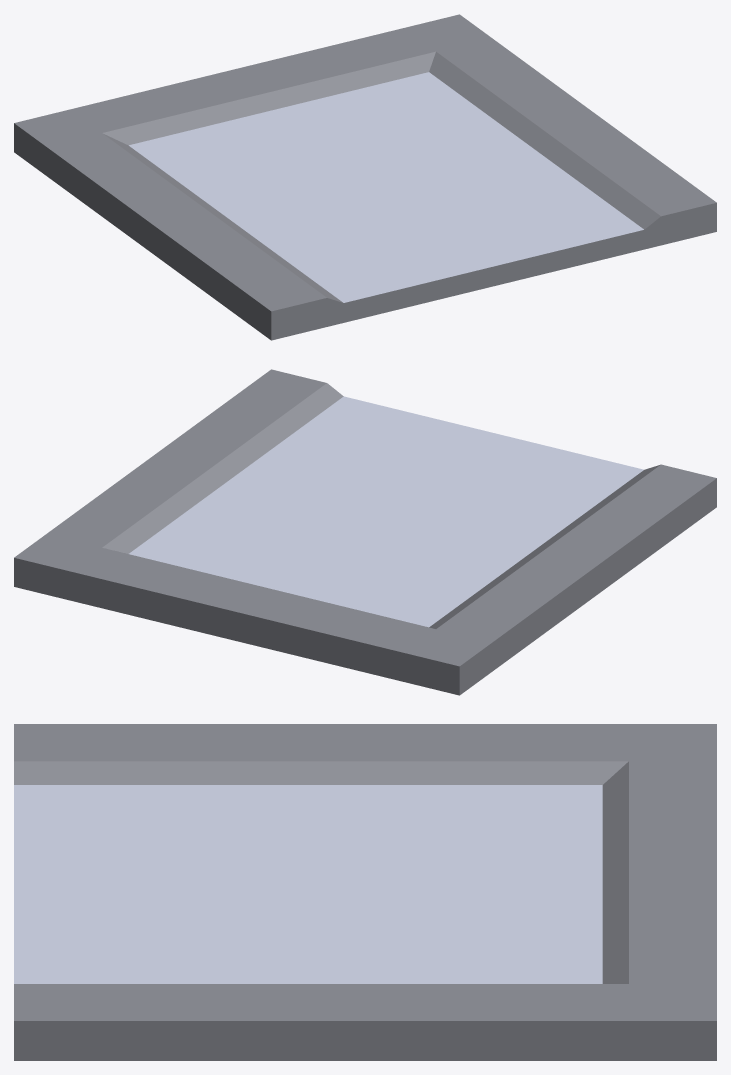
3 views of the same model, one above another, from view 1: azimuth 30°, elevation 25°; view 2: azimuth 150°, elevation 25°; view 3: azimuth 270°, elevation 25° (orthographic). The views are drawn at different scales.
Parts seen in each view (by area): view 1: object_027; view 2: object_027; view 3: object_027.
Part boxes in pixels (x1,y1,x2,y2): object_027: [14, 14, 716, 340]; object_027: [14, 369, 716, 695]; object_027: [14, 724, 716, 1060].
Size of the model in its own units: 1 by 0.0625 by 1.
